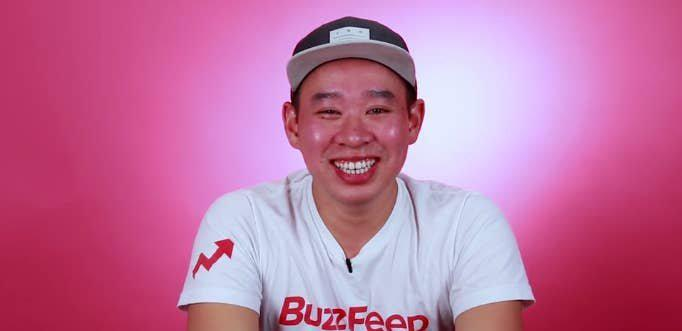Drunk: (308, 68, 402, 199)
